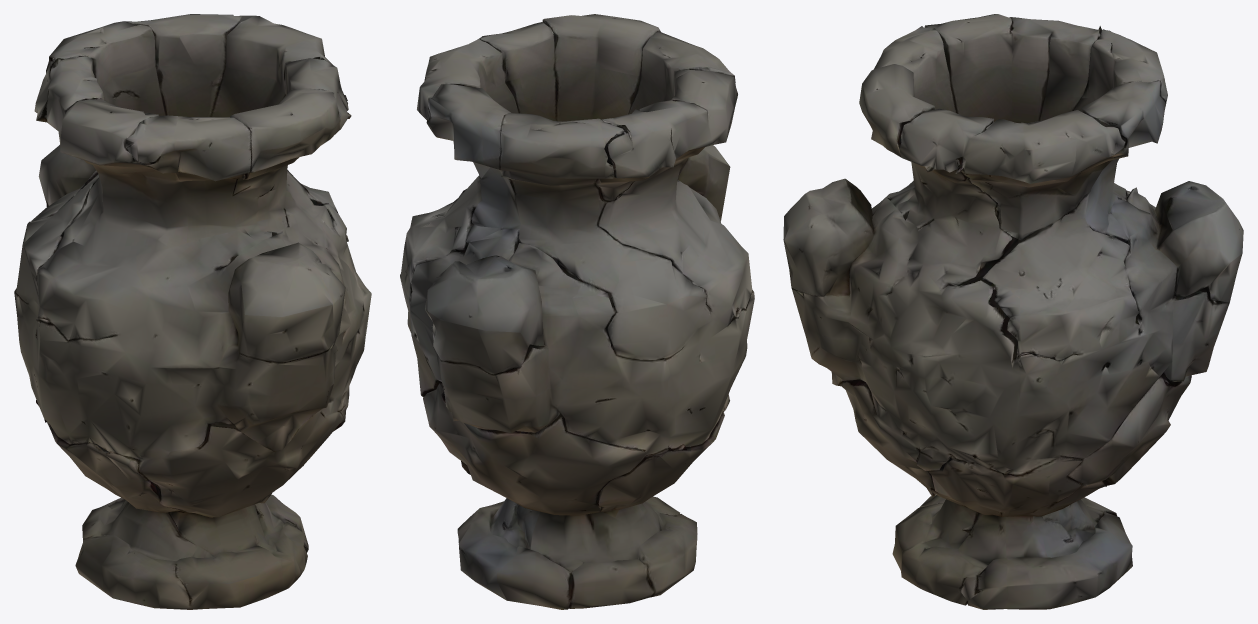
File: Vaze.opt.glb
3 views of the same model, side by side, from view 1: azimuth 30°, elevation 25°; view 2: azimuth 150°, elevation 25°; view 3: azimuth 270°, elevation 25° (orthographic).
Visible parts, largest first — view 1: tripo_node_70c1e36e-451c-4212-8eda-98e425402f11; view 2: tripo_node_70c1e36e-451c-4212-8eda-98e425402f11; view 3: tripo_node_70c1e36e-451c-4212-8eda-98e425402f11.
Boxes of the visible parts, box(x1,y1,x2,y2) form: tripo_node_70c1e36e-451c-4212-8eda-98e425402f11: box(14, 14, 371, 609); tripo_node_70c1e36e-451c-4212-8eda-98e425402f11: box(400, 14, 754, 609); tripo_node_70c1e36e-451c-4212-8eda-98e425402f11: box(783, 14, 1243, 609).
Size of the model in its own units: 0.6742 by 0.9995 by 0.8472.
Materials: 1 (1 with a texture image).
